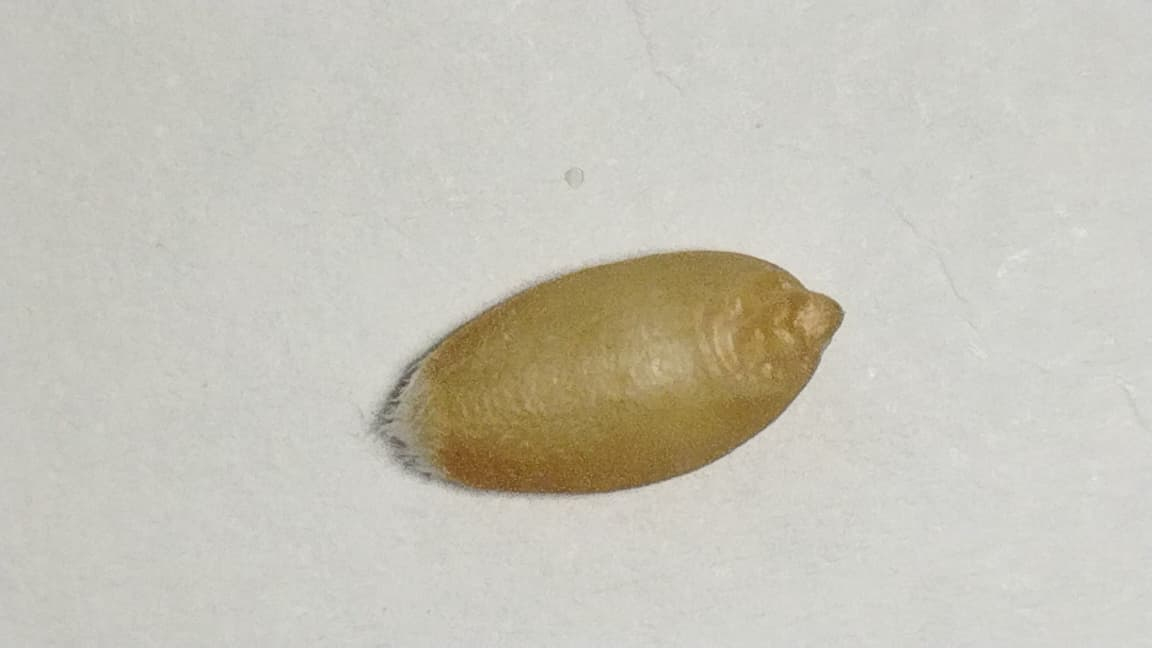healthy: (377, 252, 842, 493)
